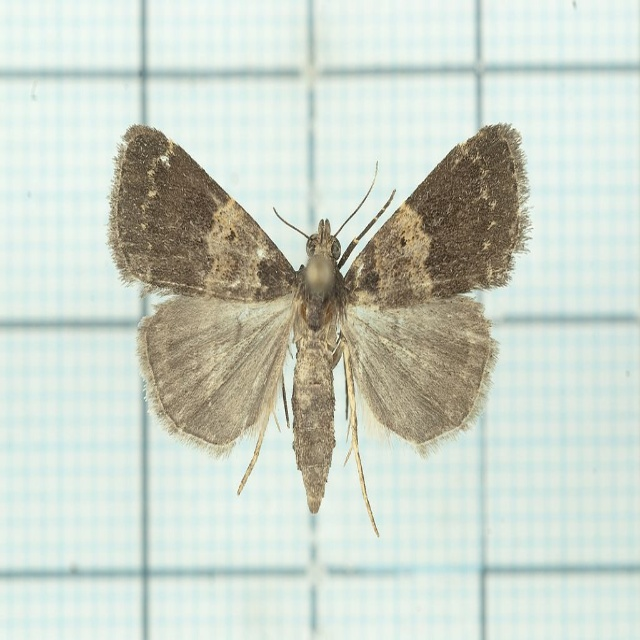Butterfly: (106, 121, 542, 526)
